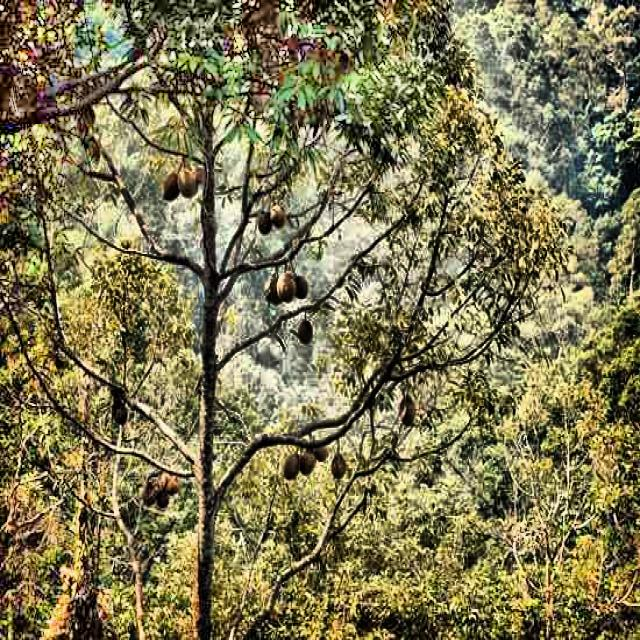arvore: (188, 218, 230, 640)
